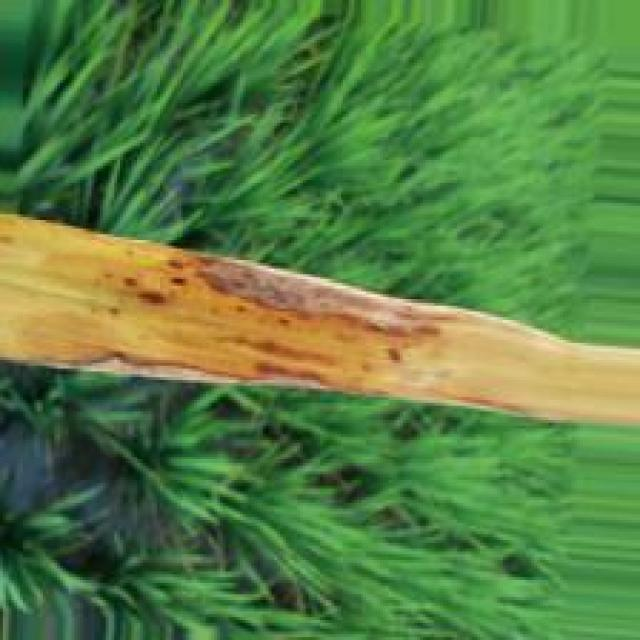Rice False Smut: (175, 248, 472, 358), (32, 345, 412, 401), (130, 288, 168, 309)
